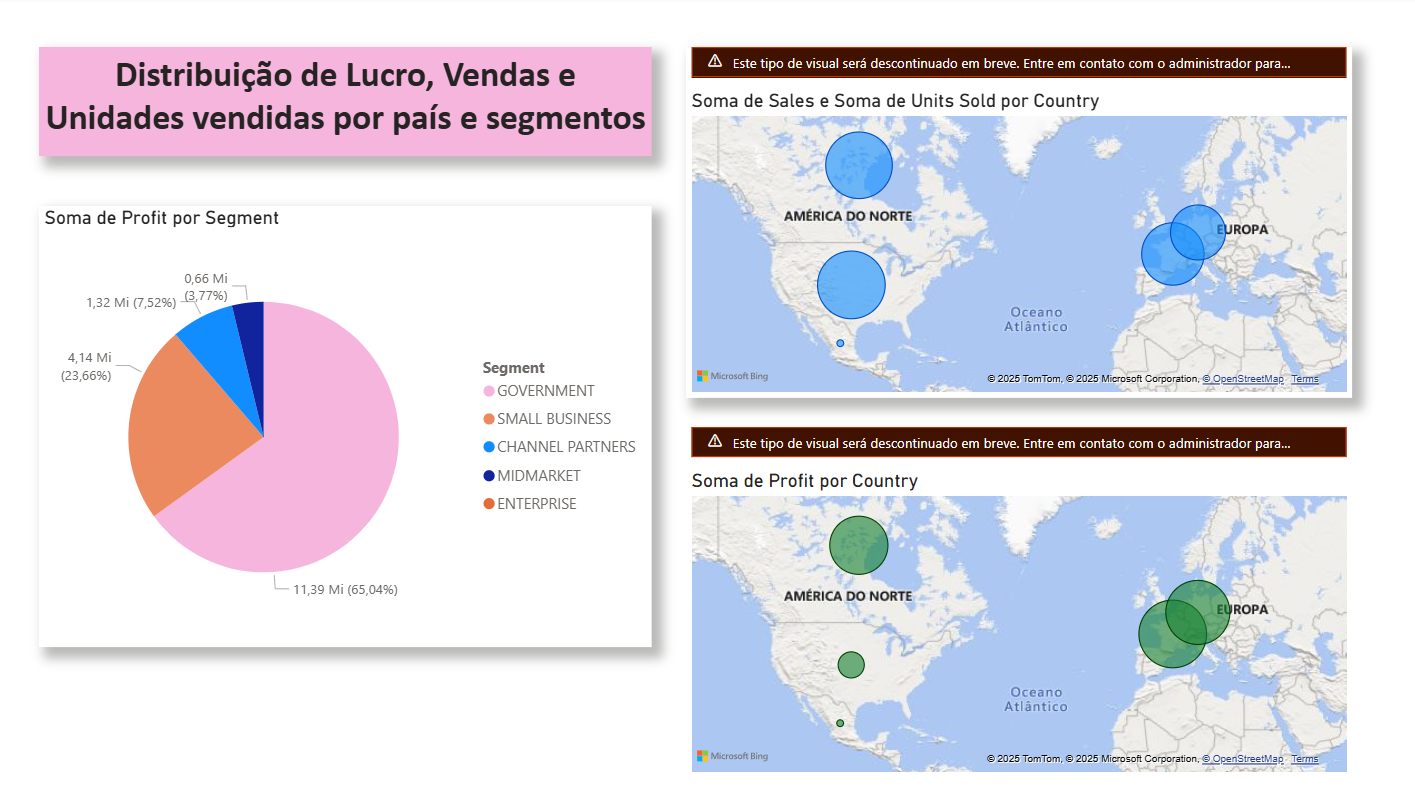

What the dashboard file says about the page in this screenshot:
{"tool":"powerbi","page":{"name":"Página 3","canvas":[1280,720],"ordinal":2},"visuals":[{"type":"map","title":"Soma de Sales e Soma de Units Sold por Country ","fields":{"Category":["financials.Country"],"Size":["Sum(financials.Sales)"]},"box":[618.6,44.7,598.2,315.1],"z":0},{"type":"pieChart","fields":{"Category":["financials.Segment"],"Y":["Sum(financials.Profit)"]},"box":[37.7,187.6,550.3,395.9],"z":1000},{"type":"textbox","box":[37.7,44.9,550.3,97.9],"z":2000},{"type":"map","fields":{"Category":["financials.Country"],"Size":["Sum(financials.Profit)"]},"box":[618.6,386,597.9,315.1],"z":3000}]}

Visuals, with their boxes in screenshot pixels (x1, y1, x2, y2), scaled from the page's 1280x720 canvas onto the 1415x788 screenshot:
"Soma de Sales e Soma de Units Sold por Country " map: <box>684,49,1345,394</box>
pieChart - financials.Segment x Sum(financials.Profit): <box>42,205,650,639</box>
textbox: <box>42,49,650,156</box>
map - financials.Country x Sum(financials.Profit): <box>684,422,1345,767</box>
